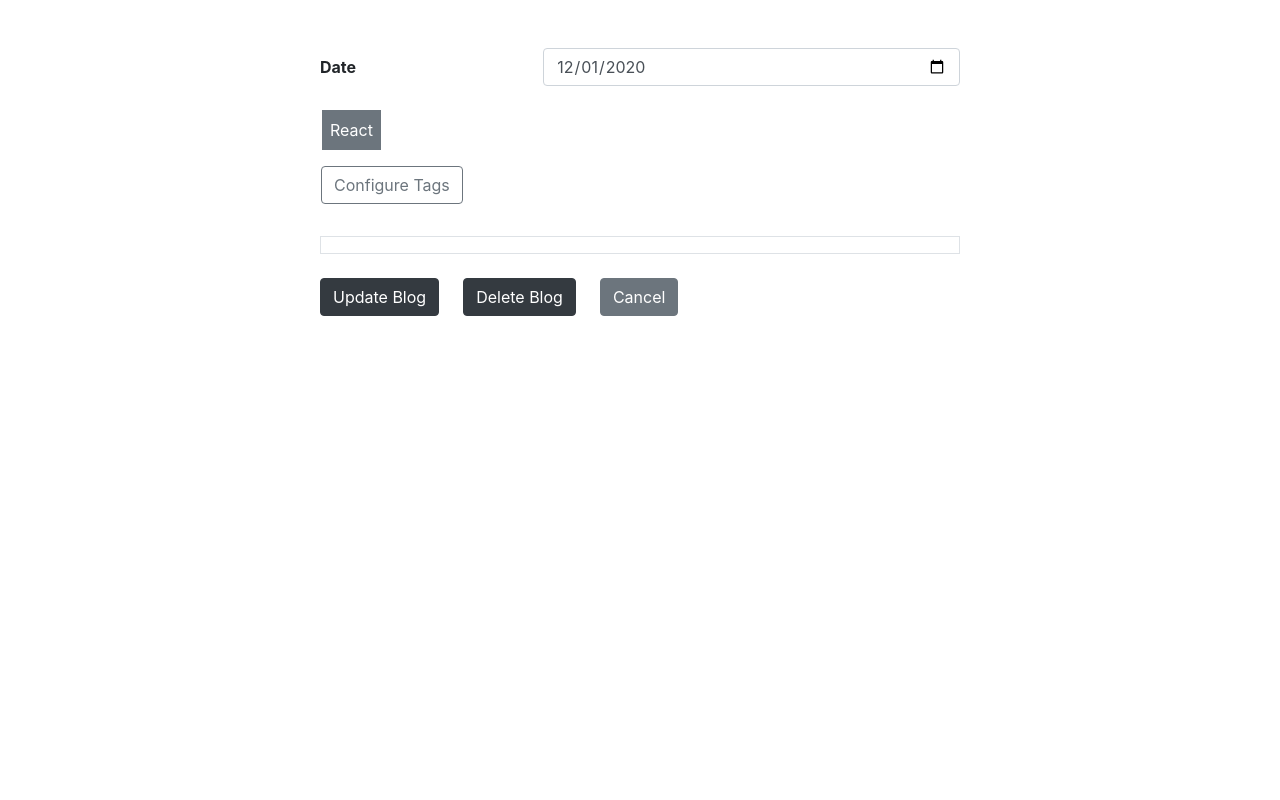
Test case: given a blog is deleted › should open the are you sure modal
The width and height of the screenshot is (1280, 800).
Click the button "Delete Blog" at (519, 297), box [463,278,576,316]
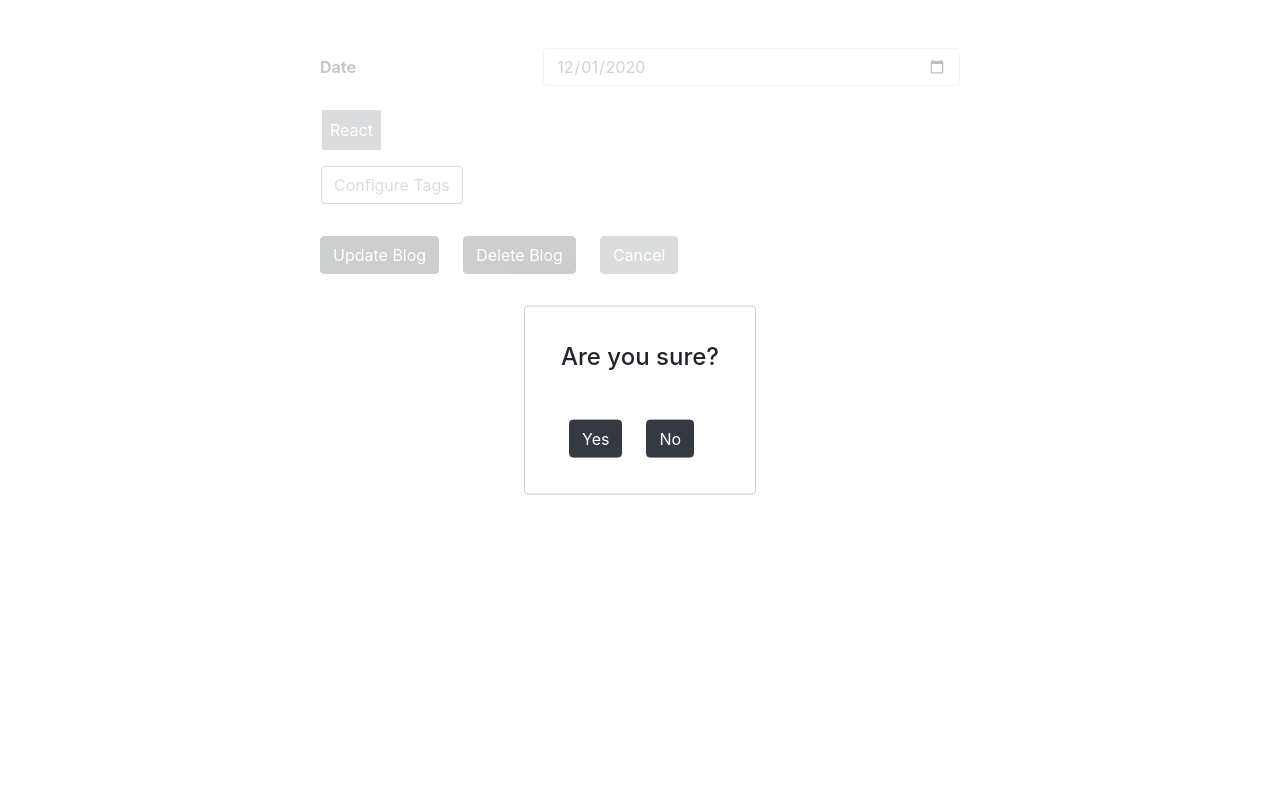
Check: the heading "Are you sure?" is shown, box [561,343,719,371]
